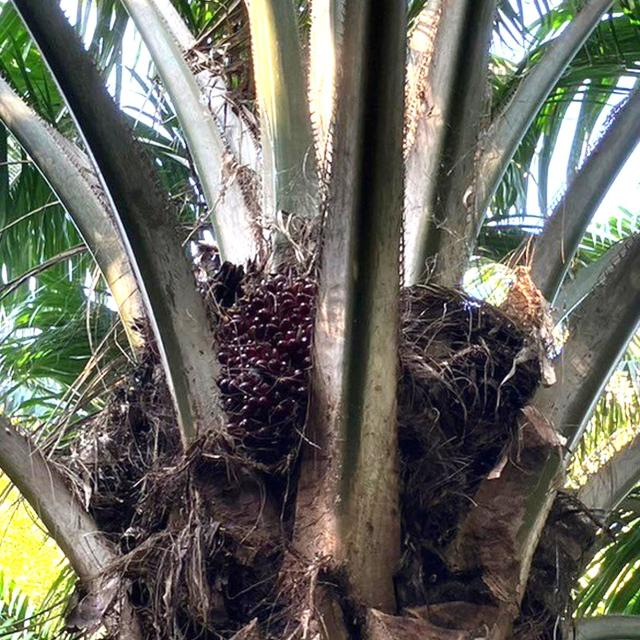ripe: (218, 278, 316, 448)
